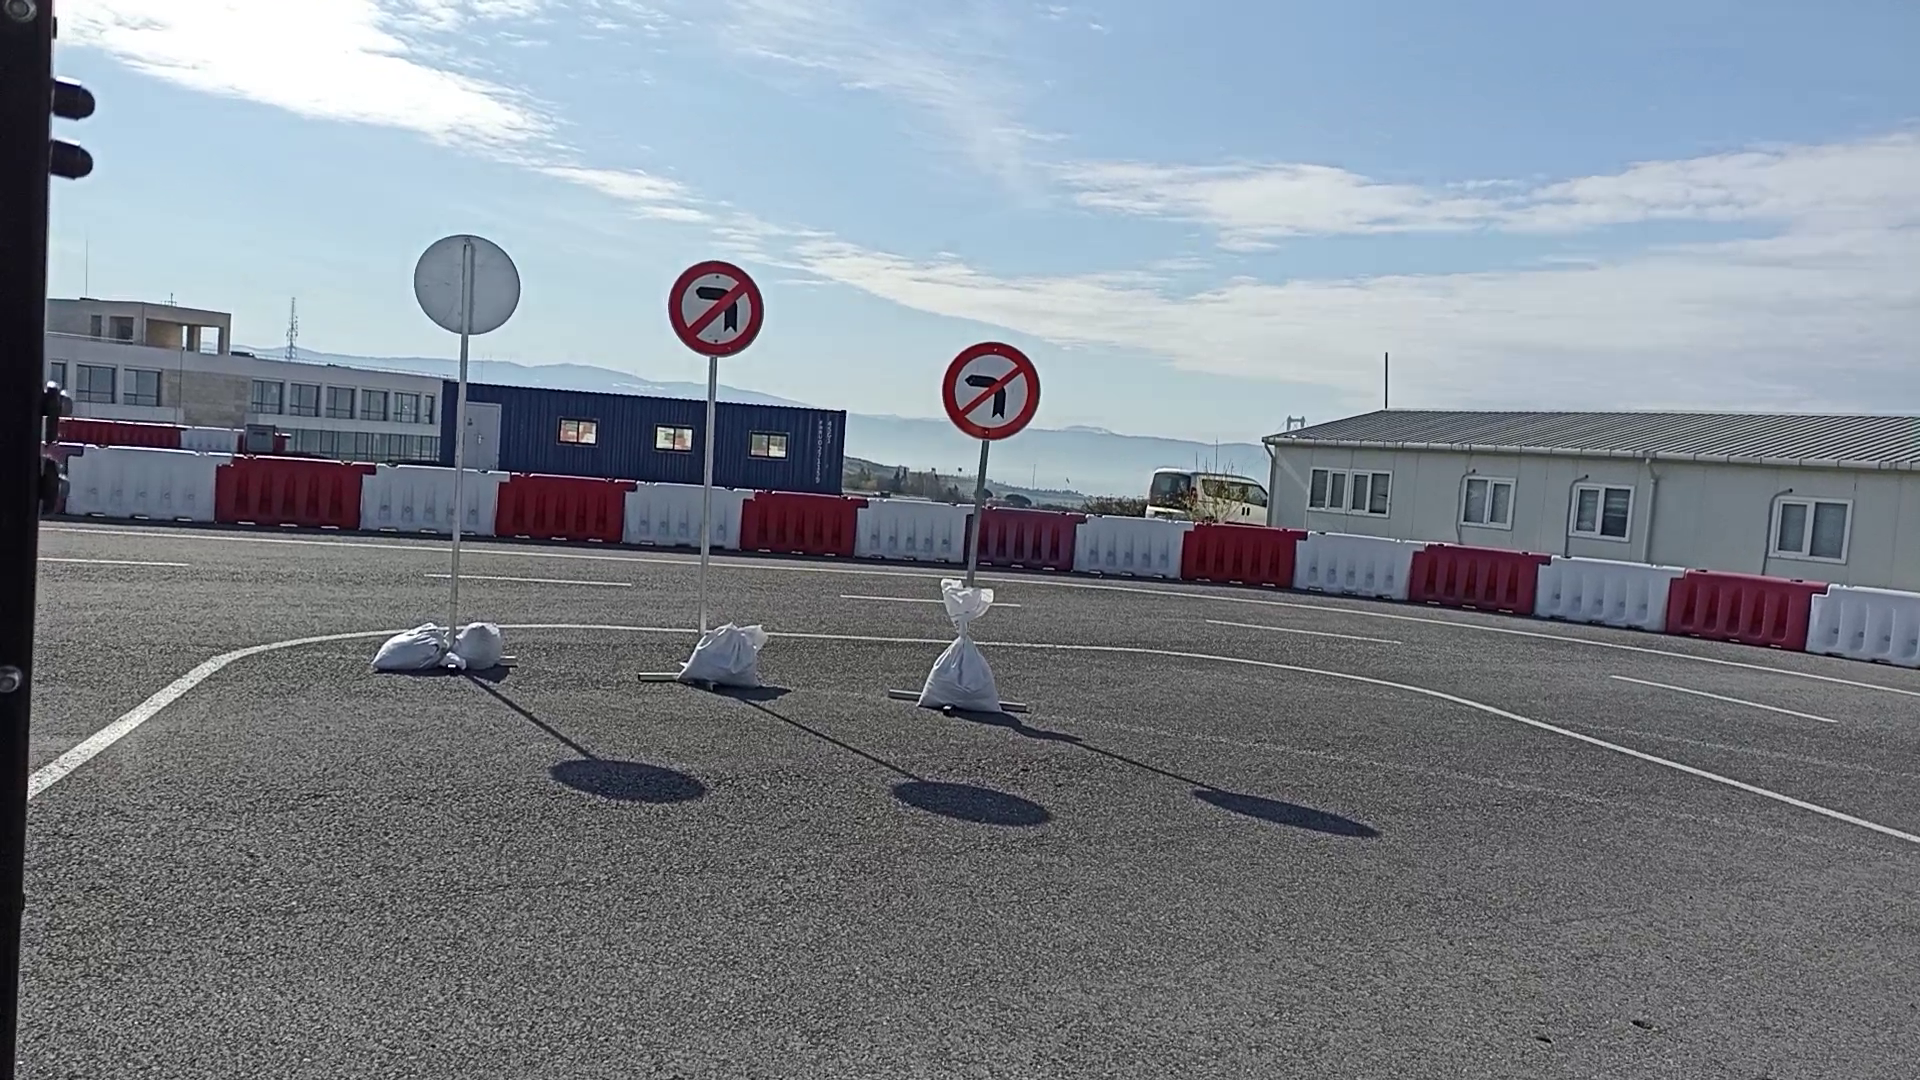noleft: (666, 258, 767, 360), (940, 340, 1040, 442)
